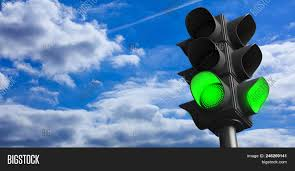green: (180, 6, 228, 114), (185, 10, 230, 116), (192, 17, 225, 109)
